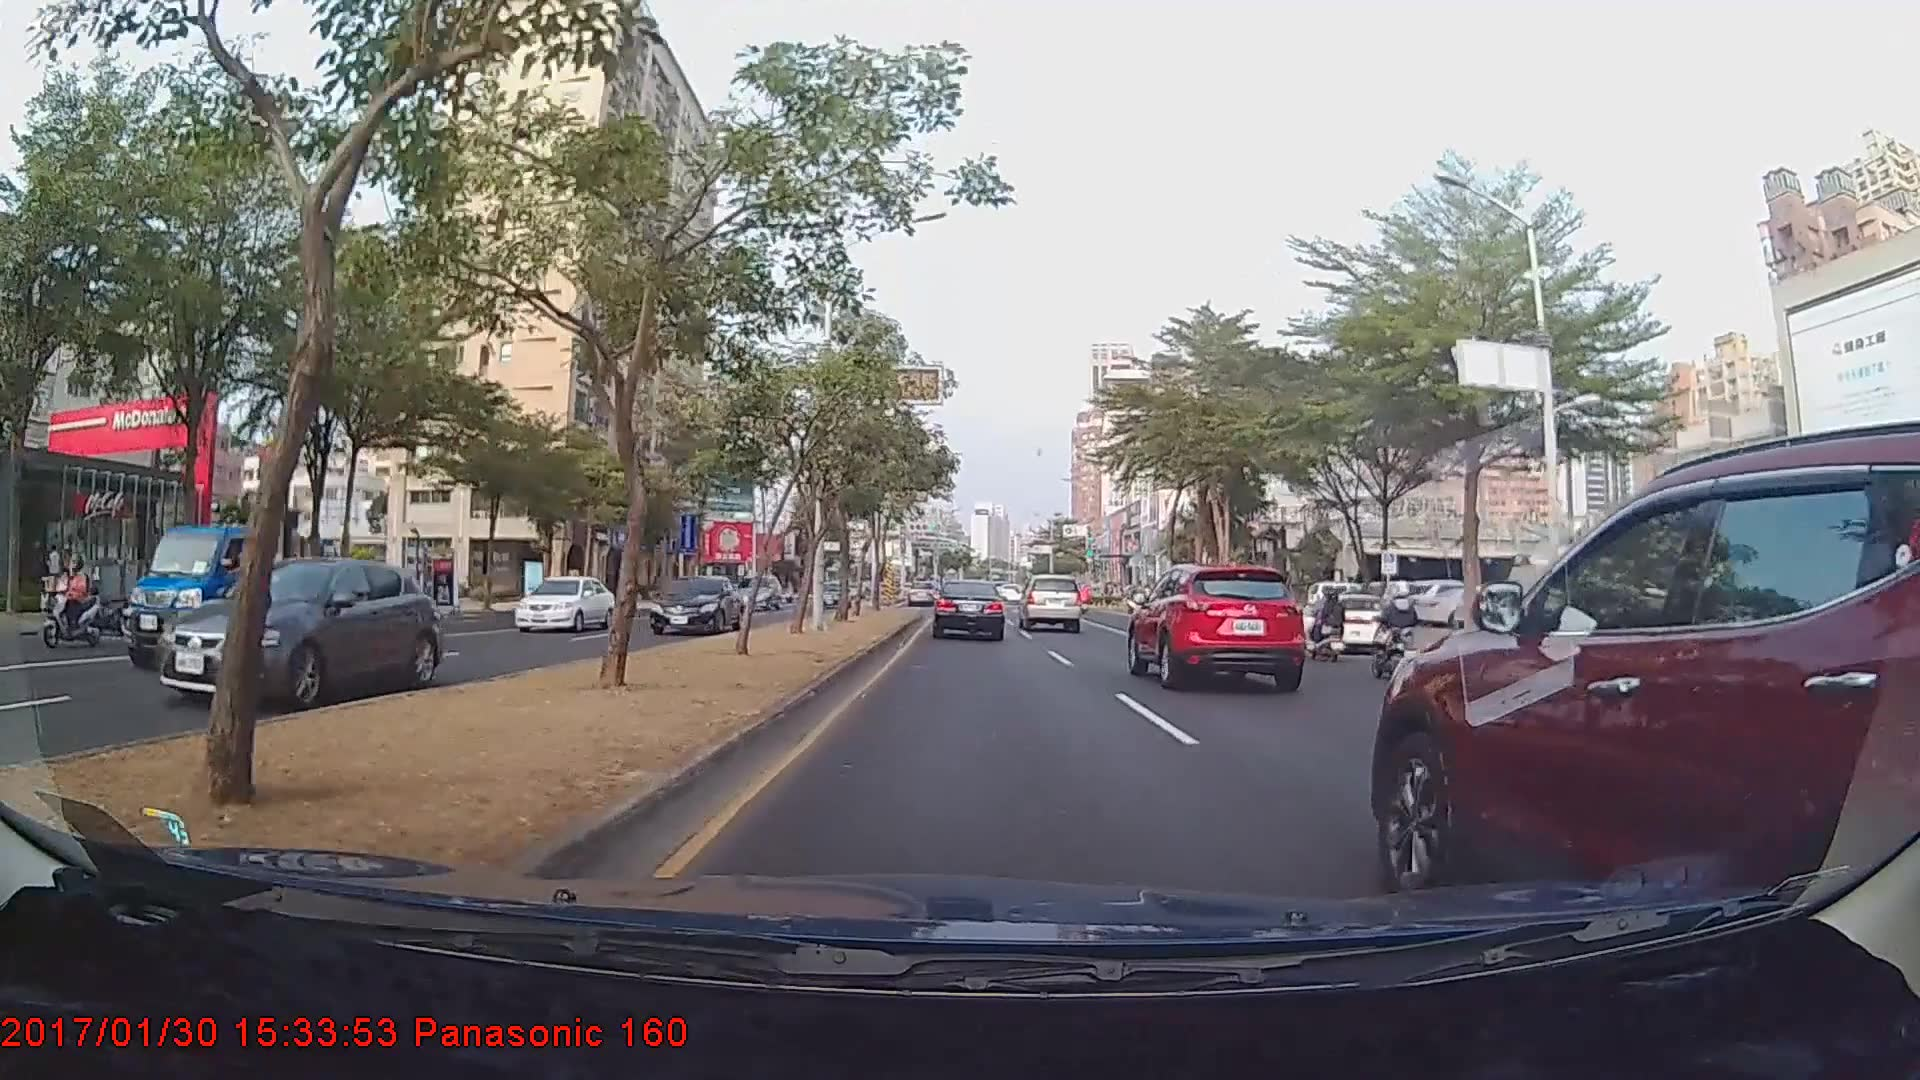rider: (39, 553, 107, 648), (1363, 577, 1428, 674), (1300, 580, 1353, 666)
vehicle: (1368, 427, 1920, 967), (158, 556, 444, 714), (131, 524, 328, 670), (1128, 556, 1307, 688), (1296, 593, 1400, 653), (511, 574, 613, 631), (646, 577, 744, 637), (931, 578, 1005, 641), (1019, 573, 1081, 631), (906, 579, 938, 607)
